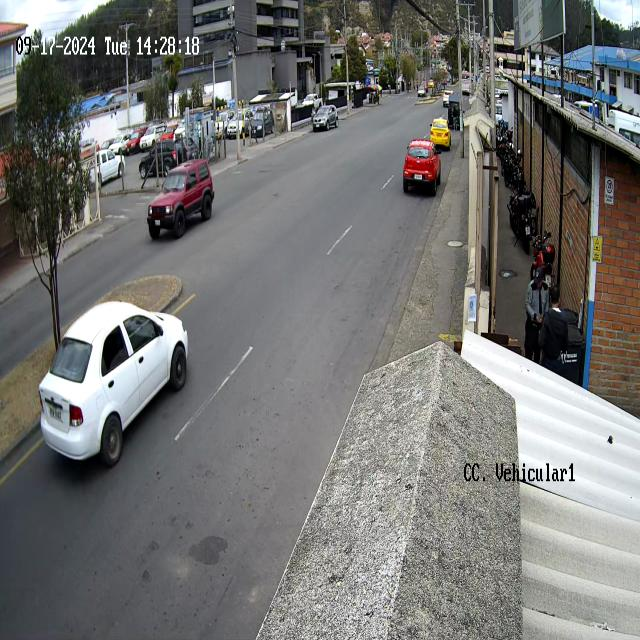SED: (39, 302, 188, 467)
SUV: (146, 160, 214, 242), (403, 140, 441, 198)
